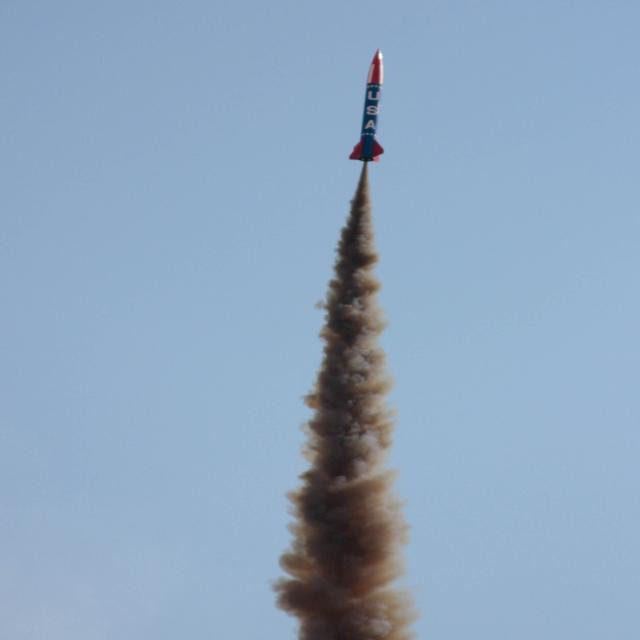Rocket: (348, 48, 385, 163)
